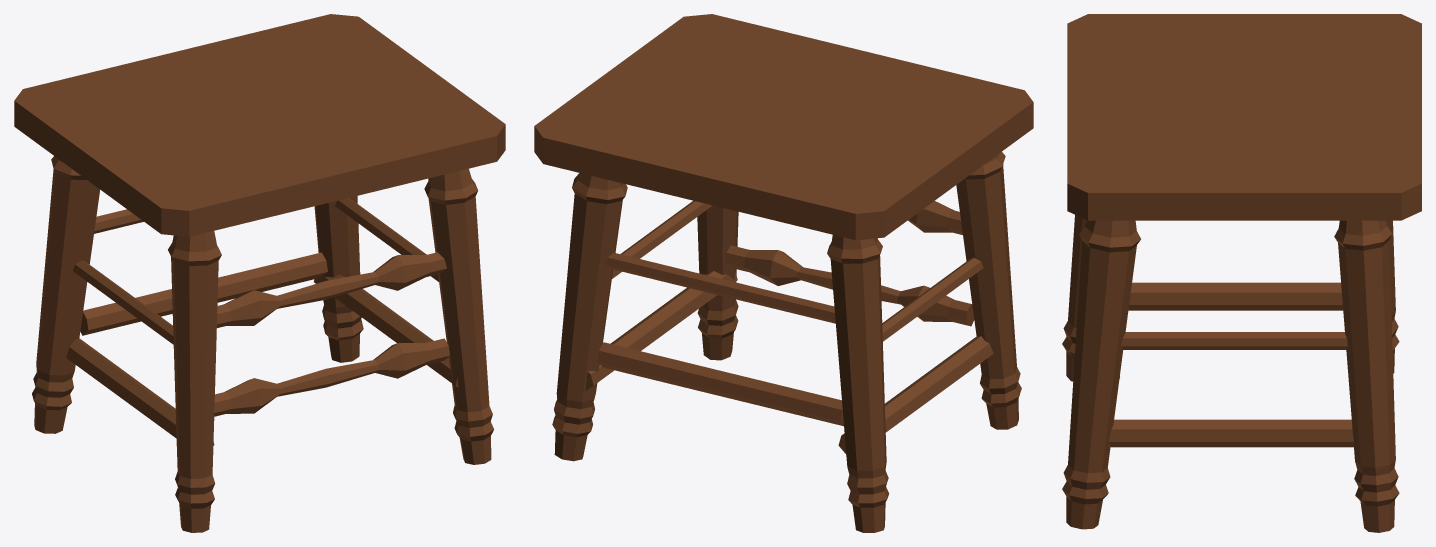
Rendered from chair 2.fbx.
3 views of the same model, side by side, from view 1: azimuth 30°, elevation 25°; view 2: azimuth 150°, elevation 25°; view 3: azimuth 270°, elevation 25° (orthographic). The views are drawn at different scales.
Visible parts, largest first — view 1: chair 2; view 2: chair 2; view 3: chair 2.
Part boxes in pixels (bbox=[...]): chair 2: bbox=[14, 14, 505, 532]; chair 2: bbox=[534, 14, 1033, 532]; chair 2: bbox=[1062, 14, 1421, 532].
Bounding box in the file's own units: 49.07 × 44.49 × 41.67.
